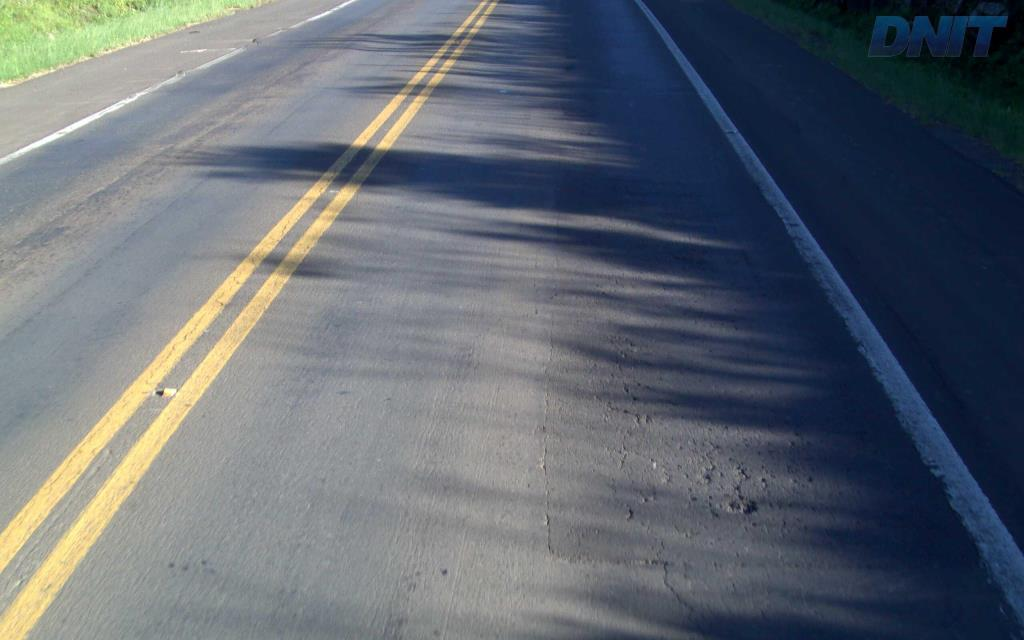pothole: (713, 494, 757, 517)
